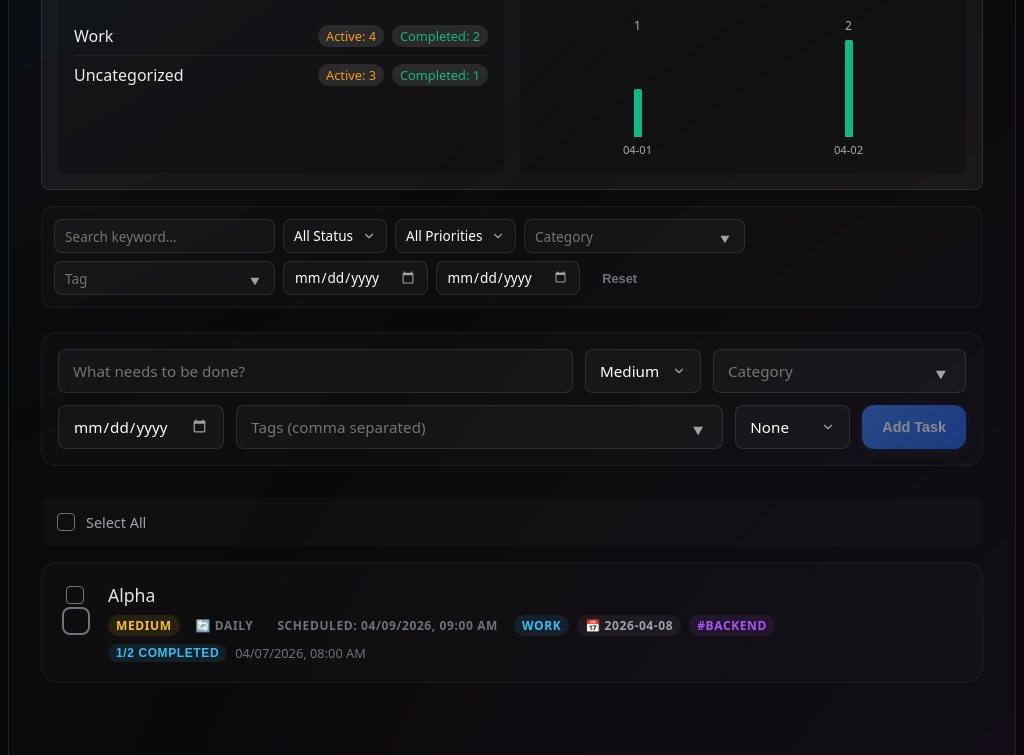
Scenario: TodoList reset behavior › renders backend validation errors from the error envelope
(page scrolled)
In the field with placeholder "What needs to be done?": (316, 371) [58,349,573,393], type "Trigger validation envelope"
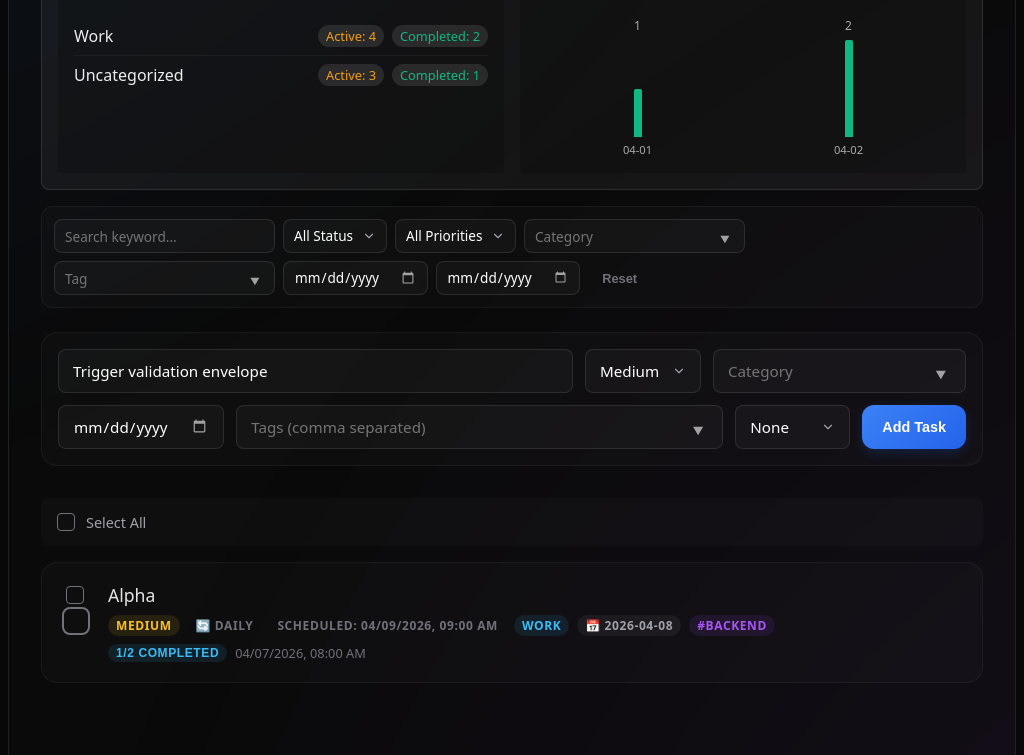
Click the button "Add Task": click(914, 427) [862,405,966,449]
(page scrolled)
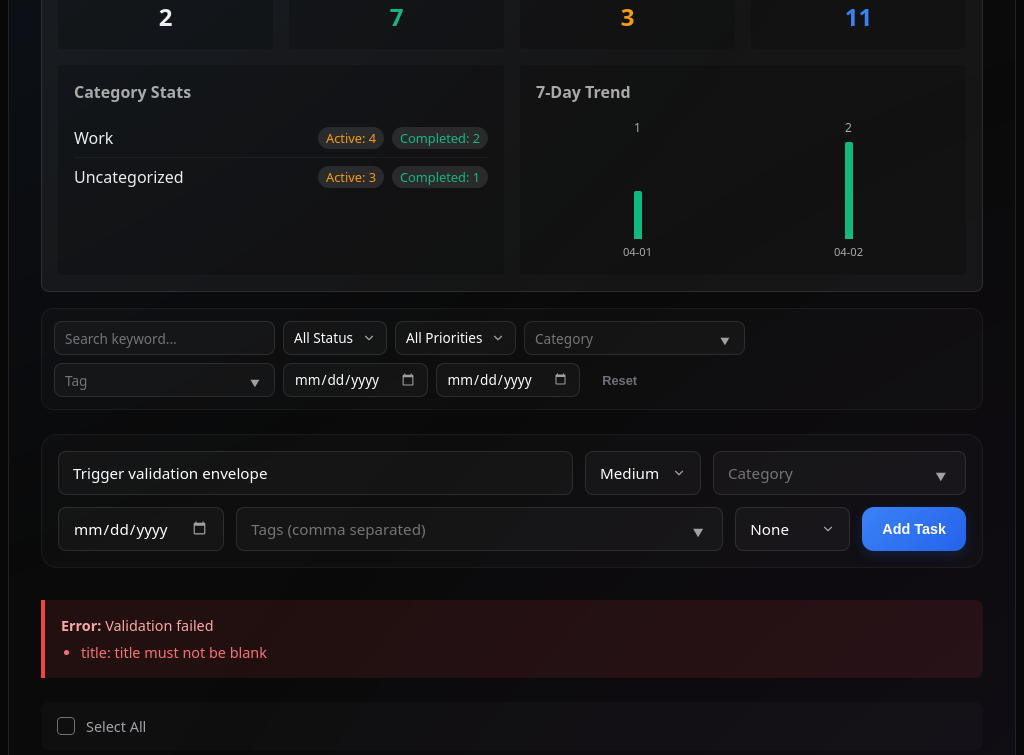
Expected: the element with class "error-banner" shows "Validation failed", [101,616,214,635]
Expected: the list "title: title must not be blank" is shown, [81,643,267,662]
